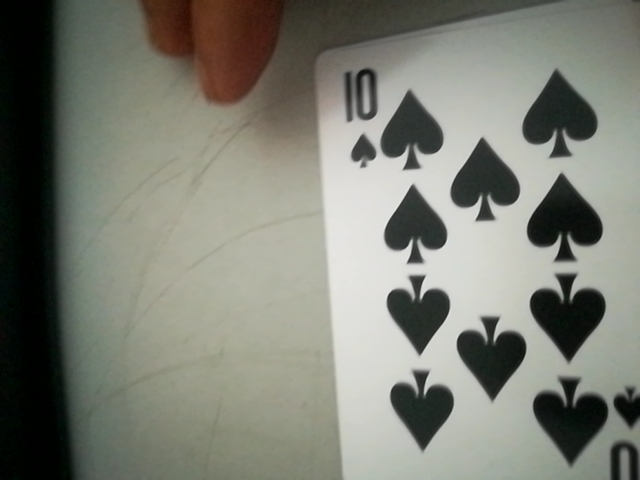ht 10: (333, 60, 393, 172)
